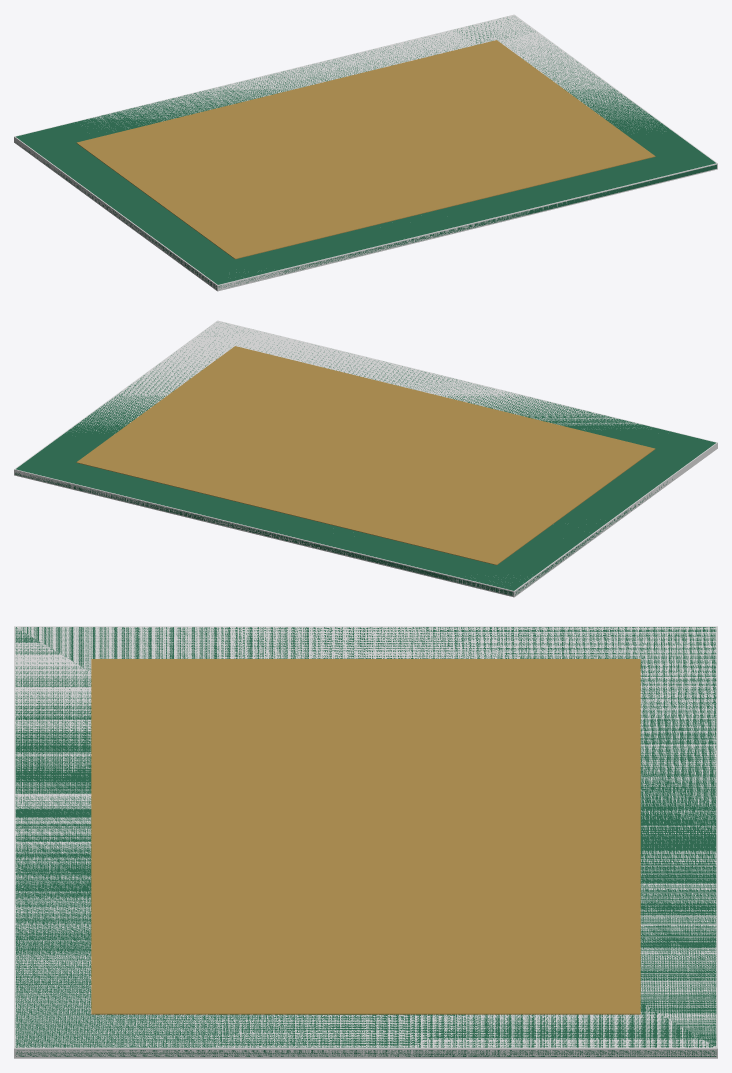
Rendered from area-rug_luxury.glb.
The picture shows the model from 3 angles, top to bottom: view 1: azimuth 30°, elevation 25°; view 2: azimuth 150°, elevation 25°; view 3: azimuth 270°, elevation 25°; orthographic projection. The views are drawn at different scales.
Parts seen in each view (by area): view 1: MESH_RugInset, MESH_Rug, COL_area-rug; view 2: MESH_RugInset, MESH_Rug, COL_area-rug; view 3: MESH_RugInset, COL_area-rug, MESH_Rug.
Part boxes in pixels (x1,y1,x2,y2): MESH_RugInset: (76, 40, 655, 259); MESH_Rug: (16, 17, 716, 289); COL_area-rug: (14, 14, 717, 291); MESH_RugInset: (76, 346, 655, 565); MESH_Rug: (15, 323, 715, 595); COL_area-rug: (14, 320, 717, 597); MESH_RugInset: (91, 659, 640, 1014); COL_area-rug: (14, 626, 717, 1058); MESH_Rug: (15, 627, 716, 1056).
Bounding box in the file's own units: 2.2 × 0.0275 × 1.55.
